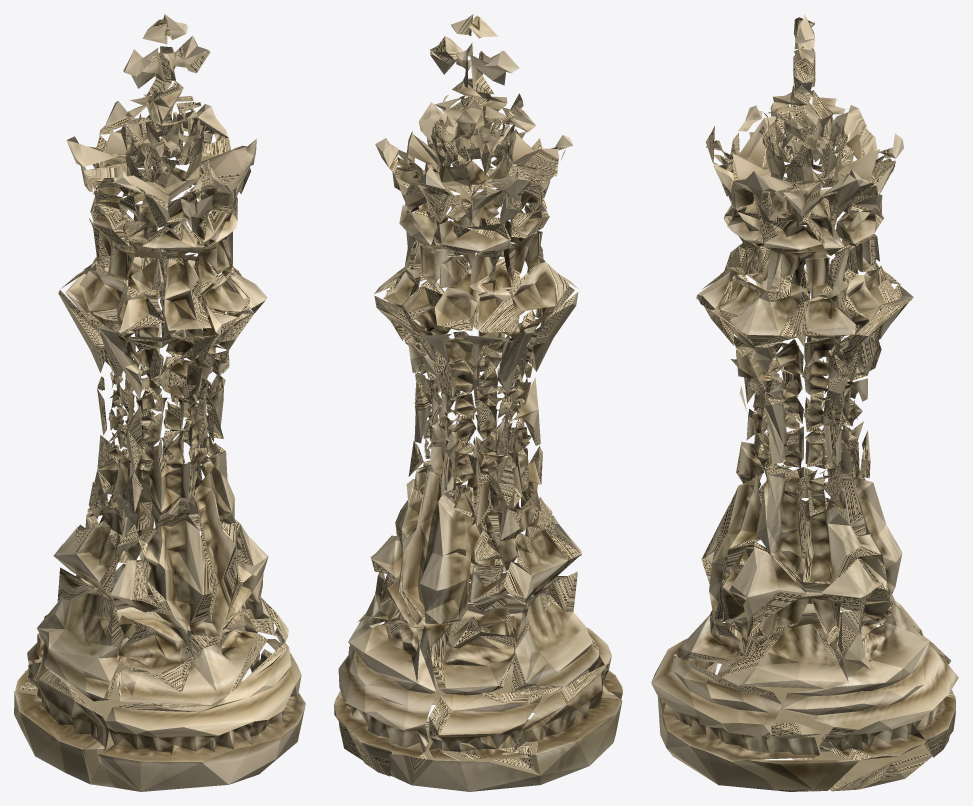
Rendered from king.glb.
The picture shows the model from 3 angles, left to right: view 1: azimuth 30°, elevation 25°; view 2: azimuth 150°, elevation 25°; view 3: azimuth 270°, elevation 25°; orthographic projection.
Visible parts, largest first — view 1: geometry_0; view 2: geometry_0; view 3: geometry_0.
Part boxes in pixels (x1,y1,x2,y2): geometry_0: [14, 14, 305, 791]; geometry_0: [334, 14, 622, 791]; geometry_0: [651, 14, 958, 791].
Bounding box in the file's own units: 0.3096 × 0.8904 × 0.341.
1 material, 1 textured.
